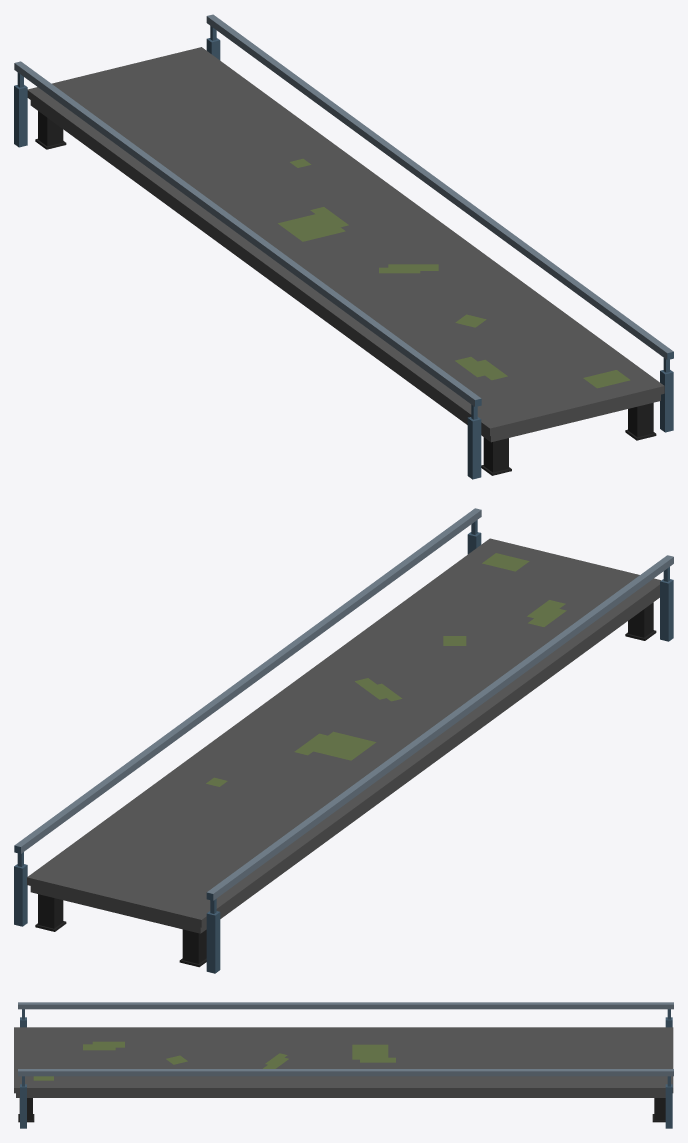
The model's file is obstacle2.fbx.
3 renders of one model, top to bottom at view 1: azimuth 30°, elevation 25°; view 2: azimuth 150°, elevation 25°; view 3: azimuth 270°, elevation 25°, orthographic. The views are drawn at different scales.
Visible parts, largest first — view 1: obstacle4; view 2: obstacle4; view 3: obstacle4.
Boxes of the visible parts, x1=… form: obstacle4: x1=14, y1=14, x2=673, y2=479; obstacle4: x1=14, y1=508, x2=673, y2=973; obstacle4: x1=14, y1=1002, x2=673, y2=1128.
Bounding box in the file's own units: 34.33 × 13.06 × 137.
